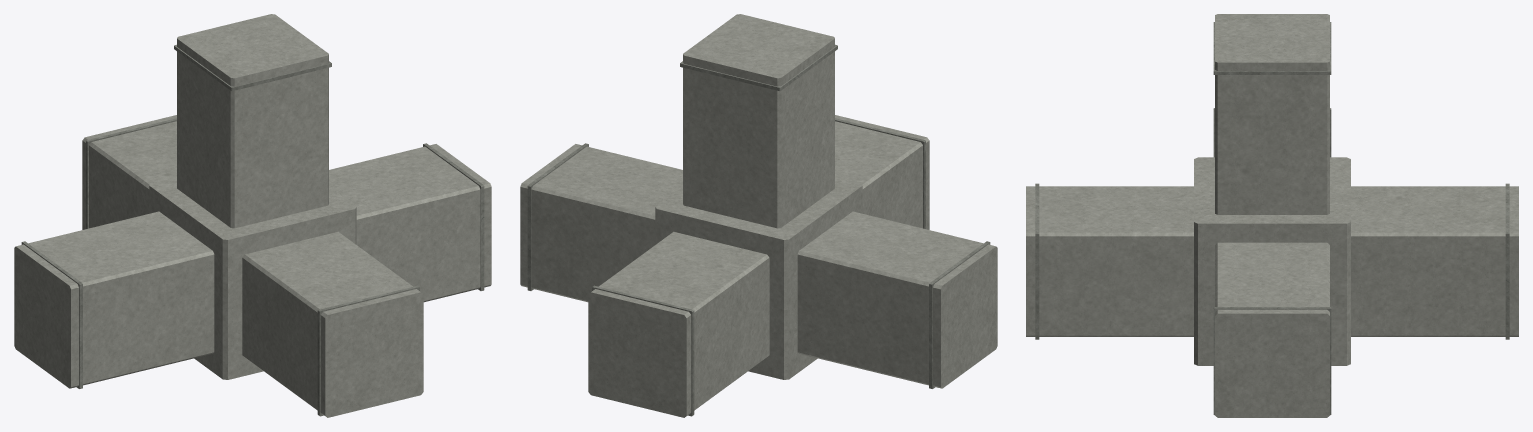
The model's file is PZ_Joint_Cross_XYZ.glb.
3 renders of one model, left to right at view 1: azimuth 30°, elevation 25°; view 2: azimuth 150°, elevation 25°; view 3: azimuth 270°, elevation 25°, orthographic.
Visible parts, largest first — view 1: RENDER_PZ_Joint_Cross_XYZ__RENDER_Stub_+Z__009, RENDER_PZ_Joint_Cross_XYZ__RENDER_Stub_-X__003, RENDER_PZ_Joint_Cross_XYZ__RENDER_Stub_-Y__007, RENDER_PZ_Joint_Cross_XYZ__RENDER_Stub_+X__001, RENDER_PZ_Joint_Cross_XYZ__RENDER_Joint_Central_Core__000, RENDER_PZ_Joint_Cross_XYZ__RENDER_Stub_+Y__005, RENDER_PZ_Joint_Cross_XYZ__RENDER_Joint_Grout_+X__002, RENDER_PZ_Joint_Cross_XYZ__RENDER_Joint_Grout_-Y__008, RENDER_PZ_Joint_Cross_XYZ__RENDER_Joint_Grout_+Z__010, RENDER_PZ_Joint_Cross_XYZ__RENDER_Joint_Grout_-X__004, RENDER_PZ_Joint_Cross_XYZ__RENDER_Joint_Grout_+Y__006; view 2: RENDER_PZ_Joint_Cross_XYZ__RENDER_Stub_+Z__009, RENDER_PZ_Joint_Cross_XYZ__RENDER_Stub_-X__003, RENDER_PZ_Joint_Cross_XYZ__RENDER_Stub_+Y__005, RENDER_PZ_Joint_Cross_XYZ__RENDER_Stub_+X__001, RENDER_PZ_Joint_Cross_XYZ__RENDER_Joint_Central_Core__000, RENDER_PZ_Joint_Cross_XYZ__RENDER_Stub_-Y__007, RENDER_PZ_Joint_Cross_XYZ__RENDER_Joint_Grout_+X__002, RENDER_PZ_Joint_Cross_XYZ__RENDER_Joint_Grout_+Y__006, RENDER_PZ_Joint_Cross_XYZ__RENDER_Joint_Grout_+Z__010, RENDER_PZ_Joint_Cross_XYZ__RENDER_Joint_Grout_-X__004, RENDER_PZ_Joint_Cross_XYZ__RENDER_Joint_Grout_-Y__008; view 3: RENDER_PZ_Joint_Cross_XYZ__RENDER_Stub_+Y__005, RENDER_PZ_Joint_Cross_XYZ__RENDER_Stub_-Y__007, RENDER_PZ_Joint_Cross_XYZ__RENDER_Stub_+Z__009, RENDER_PZ_Joint_Cross_XYZ__RENDER_Stub_+X__001, RENDER_PZ_Joint_Cross_XYZ__RENDER_Joint_Central_Core__000, RENDER_PZ_Joint_Cross_XYZ__RENDER_Joint_Grout_+X__002, RENDER_PZ_Joint_Cross_XYZ__RENDER_Joint_Grout_+Y__006, RENDER_PZ_Joint_Cross_XYZ__RENDER_Joint_Grout_-Y__008, RENDER_PZ_Joint_Cross_XYZ__RENDER_Joint_Grout_+Z__010.
Boxes of the visible parts, x1=… form: RENDER_PZ_Joint_Cross_XYZ__RENDER_Stub_+Z__009: x1=177, y1=14, x2=328, y2=228; RENDER_PZ_Joint_Cross_XYZ__RENDER_Stub_-X__003: x1=14, y1=211, x2=214, y2=388; RENDER_PZ_Joint_Cross_XYZ__RENDER_Stub_-Y__007: x1=242, y1=231, x2=423, y2=417; RENDER_PZ_Joint_Cross_XYZ__RENDER_Stub_+X__001: x1=329, y1=144, x2=491, y2=302; RENDER_PZ_Joint_Cross_XYZ__RENDER_Joint_Central_Core__000: x1=149, y1=177, x2=356, y2=379; RENDER_PZ_Joint_Cross_XYZ__RENDER_Stub_+Y__005: x1=82, y1=115, x2=176, y2=229; RENDER_PZ_Joint_Cross_XYZ__RENDER_Joint_Grout_+X__002: x1=423, y1=143, x2=484, y2=290; RENDER_PZ_Joint_Cross_XYZ__RENDER_Joint_Grout_-Y__008: x1=317, y1=285, x2=419, y2=416; RENDER_PZ_Joint_Cross_XYZ__RENDER_Joint_Grout_+Z__010: x1=174, y1=44, x2=331, y2=91; RENDER_PZ_Joint_Cross_XYZ__RENDER_Joint_Grout_-X__004: x1=21, y1=241, x2=82, y2=388; RENDER_PZ_Joint_Cross_XYZ__RENDER_Joint_Grout_+Y__006: x1=86, y1=118, x2=176, y2=228; RENDER_PZ_Joint_Cross_XYZ__RENDER_Stub_+Z__009: x1=683, y1=14, x2=834, y2=228; RENDER_PZ_Joint_Cross_XYZ__RENDER_Stub_-X__003: x1=797, y1=211, x2=997, y2=388; RENDER_PZ_Joint_Cross_XYZ__RENDER_Stub_+Y__005: x1=588, y1=231, x2=769, y2=417; RENDER_PZ_Joint_Cross_XYZ__RENDER_Stub_+X__001: x1=520, y1=144, x2=682, y2=302; RENDER_PZ_Joint_Cross_XYZ__RENDER_Joint_Central_Core__000: x1=655, y1=177, x2=862, y2=379; RENDER_PZ_Joint_Cross_XYZ__RENDER_Stub_-Y__007: x1=835, y1=115, x2=929, y2=229; RENDER_PZ_Joint_Cross_XYZ__RENDER_Joint_Grout_+X__002: x1=527, y1=143, x2=588, y2=290; RENDER_PZ_Joint_Cross_XYZ__RENDER_Joint_Grout_+Y__006: x1=592, y1=285, x2=694, y2=416; RENDER_PZ_Joint_Cross_XYZ__RENDER_Joint_Grout_+Z__010: x1=680, y1=44, x2=837, y2=91; RENDER_PZ_Joint_Cross_XYZ__RENDER_Joint_Grout_-X__004: x1=929, y1=241, x2=990, y2=388; RENDER_PZ_Joint_Cross_XYZ__RENDER_Joint_Grout_-Y__008: x1=835, y1=118, x2=925, y2=228; RENDER_PZ_Joint_Cross_XYZ__RENDER_Stub_+Y__005: x1=1351, y1=186, x2=1518, y2=336; RENDER_PZ_Joint_Cross_XYZ__RENDER_Stub_-Y__007: x1=1026, y1=186, x2=1193, y2=336; RENDER_PZ_Joint_Cross_XYZ__RENDER_Stub_+Z__009: x1=1215, y1=14, x2=1329, y2=214; RENDER_PZ_Joint_Cross_XYZ__RENDER_Stub_+X__001: x1=1215, y1=242, x2=1329, y2=417; RENDER_PZ_Joint_Cross_XYZ__RENDER_Joint_Central_Core__000: x1=1194, y1=157, x2=1350, y2=365; RENDER_PZ_Joint_Cross_XYZ__RENDER_Joint_Grout_+X__002: x1=1213, y1=307, x2=1331, y2=415; RENDER_PZ_Joint_Cross_XYZ__RENDER_Joint_Grout_+Y__006: x1=1505, y1=183, x2=1509, y2=339; RENDER_PZ_Joint_Cross_XYZ__RENDER_Joint_Grout_-Y__008: x1=1035, y1=183, x2=1039, y2=339; RENDER_PZ_Joint_Cross_XYZ__RENDER_Joint_Grout_+Z__010: x1=1213, y1=22, x2=1331, y2=74.
Size of the model in its own units: 1.54 by 1.01 by 1.54.
2 materials, 2 textured.
